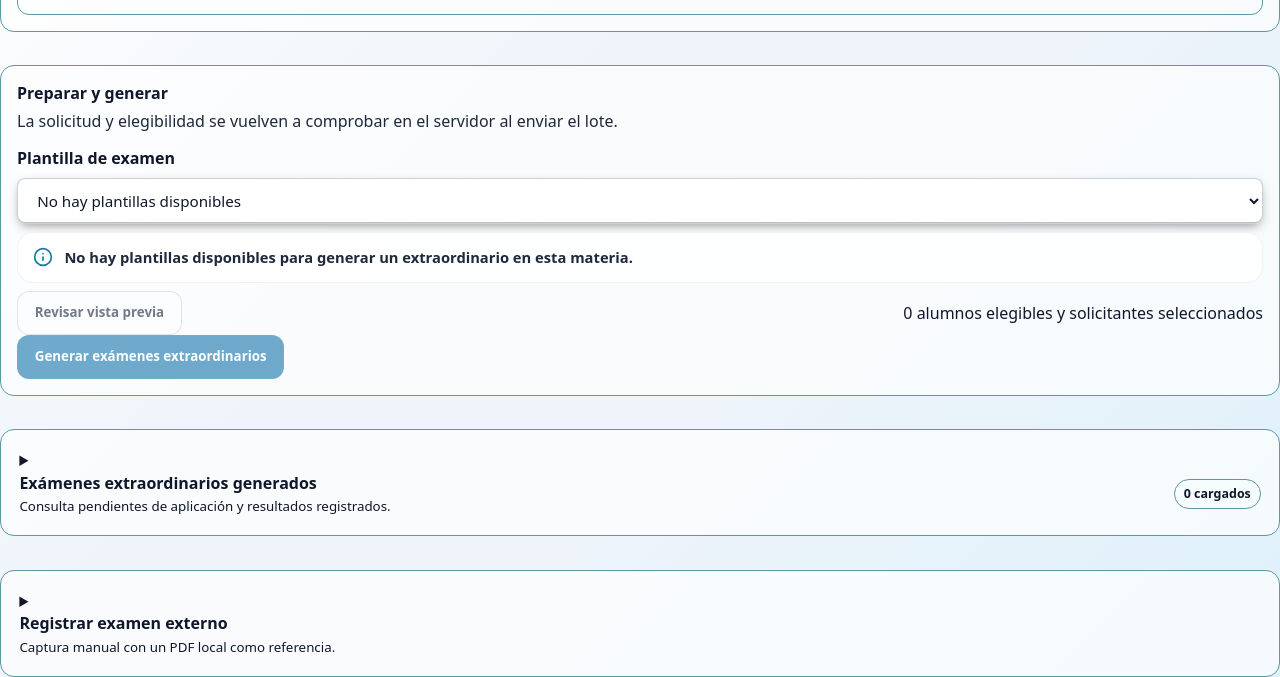
ExtraordinariosCalificaciones › explica el estado del registro externo cuando falta permiso de captura
(page scrolled)
Click the text "Registrar examen externo".
click(124, 624)  # box top-left (19, 612), bottom-right (228, 634)
(page scrolled)
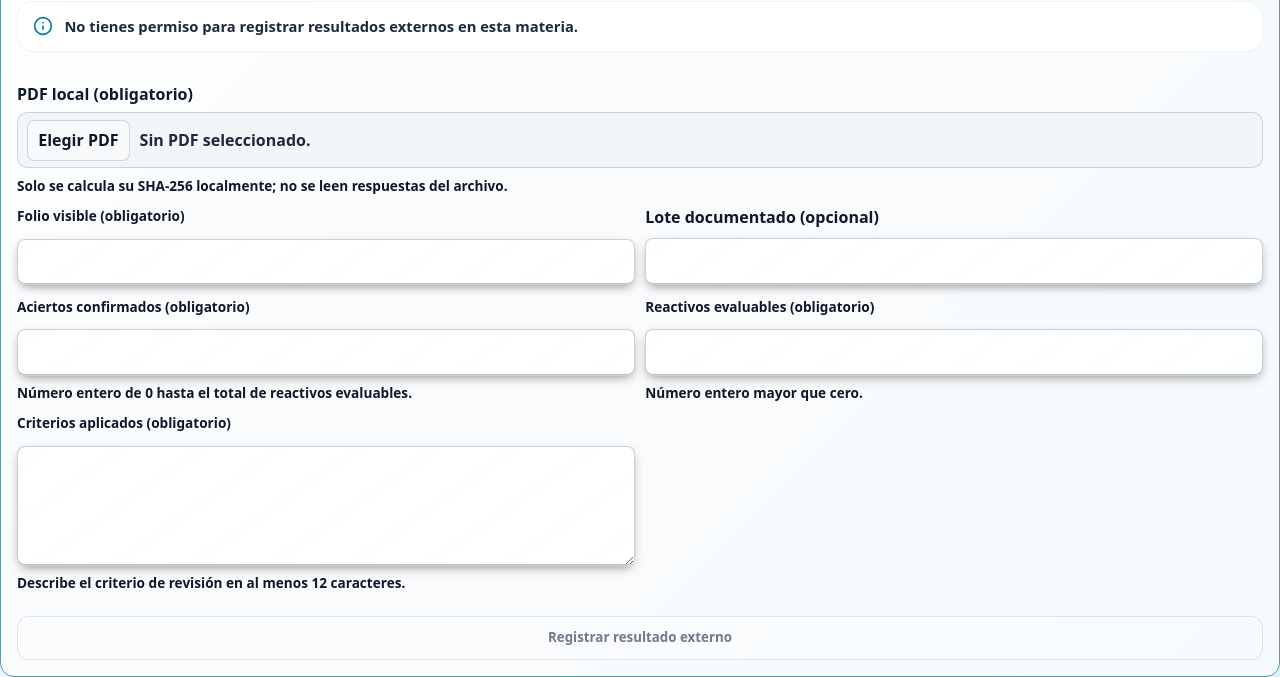
Expected: the text "No tienes permiso para registrar resultados externos en esta materia." is shown, top-left (64, 16), bottom-right (578, 36)
Expected: the button "Registrar resultado externo" is disabled, top-left (17, 616), bottom-right (1263, 660)
